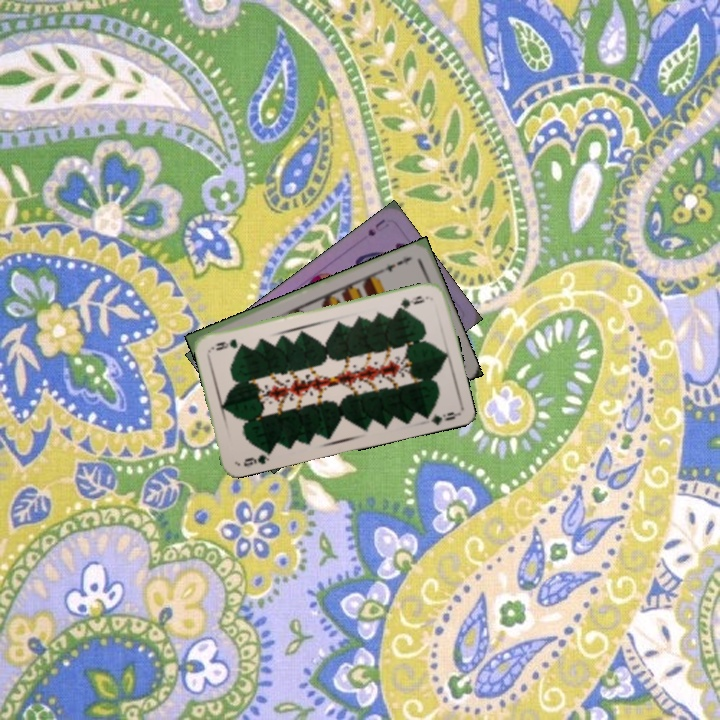E7: (378, 252, 414, 275)
G9: (393, 292, 431, 312), (239, 451, 272, 469)
SU: (364, 215, 392, 239)
